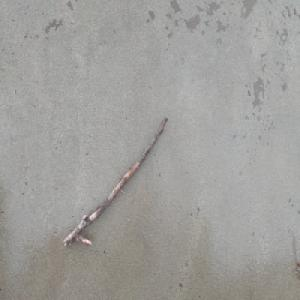Wood: (61, 115, 169, 250)
